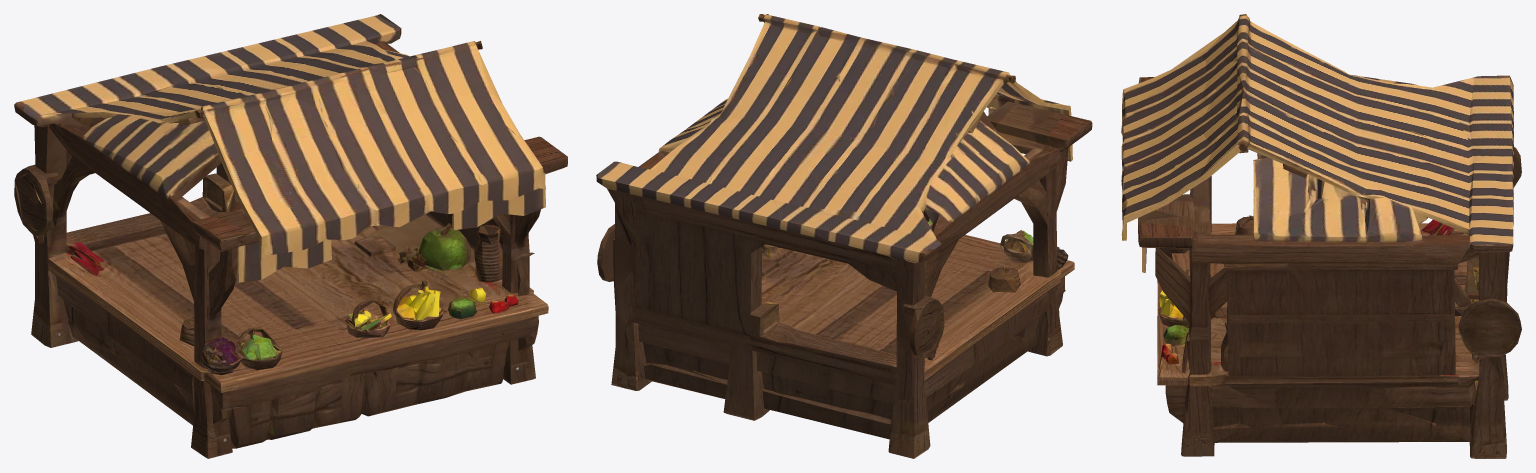
Rendered from market-stall.glb.
3 renders of one model, left to right at view 1: azimuth 30°, elevation 25°; view 2: azimuth 150°, elevation 25°; view 3: azimuth 270°, elevation 25°, orthographic. The views are drawn at different scales.
Size of the model in its own units: 1.9 by 1.58 by 1.89.
1 material, 1 textured.
